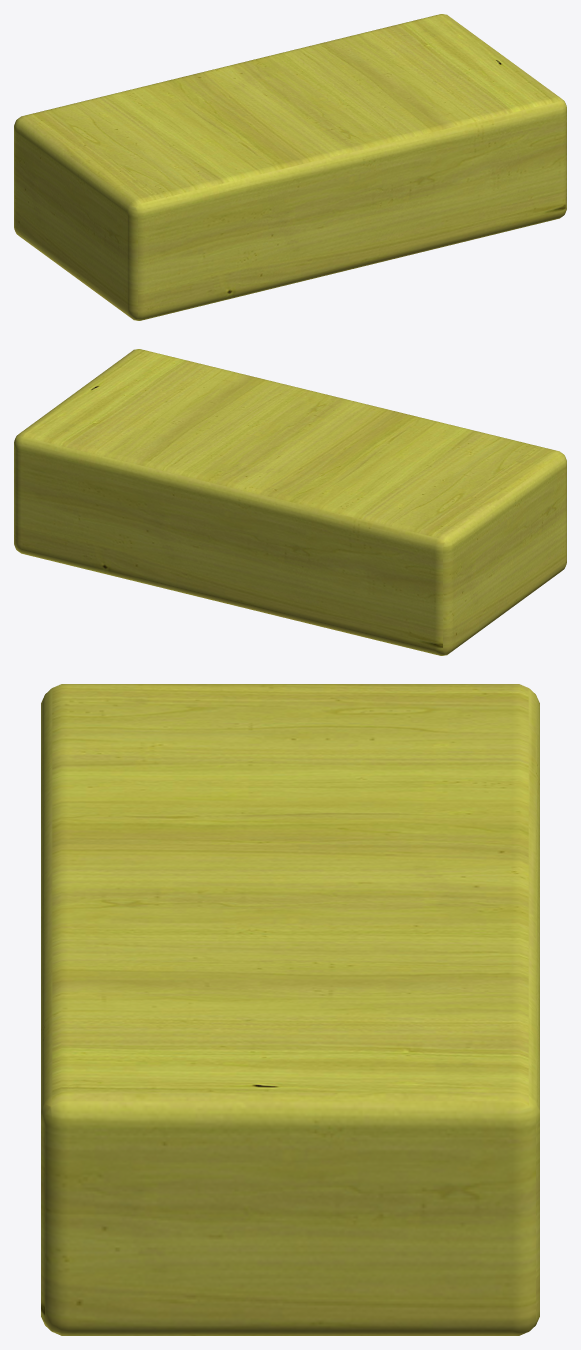
The model's file is Piece 4.FBX.
The picture shows the model from 3 angles, top to bottom: view 1: azimuth 30°, elevation 25°; view 2: azimuth 150°, elevation 25°; view 3: azimuth 270°, elevation 25°; orthographic projection. The views are drawn at different scales.
Parts seen in each view (by area): view 1: piece 4; view 2: piece 4; view 3: piece 4.
Part boxes in pixels (x1=…): piece 4: x1=14, y1=14, x2=566, y2=320; piece 4: x1=14, y1=349, x2=566, y2=655; piece 4: x1=41, y1=684, x2=539, y2=1335.
Bounding box in the file's own units: 5.91 × 1.56 × 2.92.
